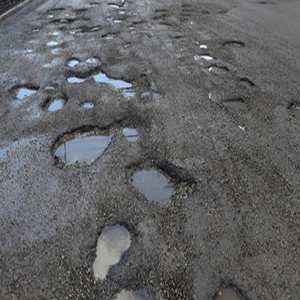pothole: (122, 157, 198, 214), (47, 121, 115, 172), (85, 217, 136, 282), (61, 67, 136, 89), (116, 118, 144, 144), (40, 93, 71, 113), (219, 97, 249, 113), (12, 84, 40, 100)
